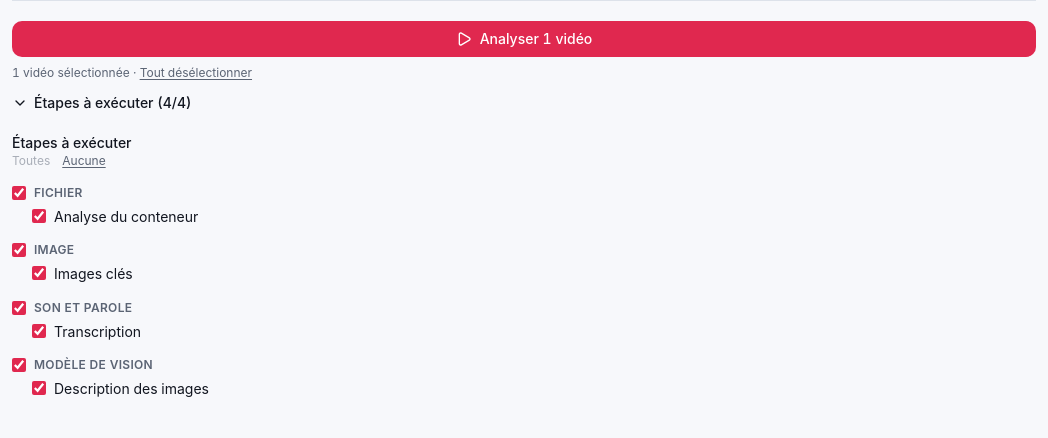
Test: AnalyzePanel › needs at least one stage
Step 1. Click the button "Aucune" → (84, 161), box [62, 153, 106, 169]
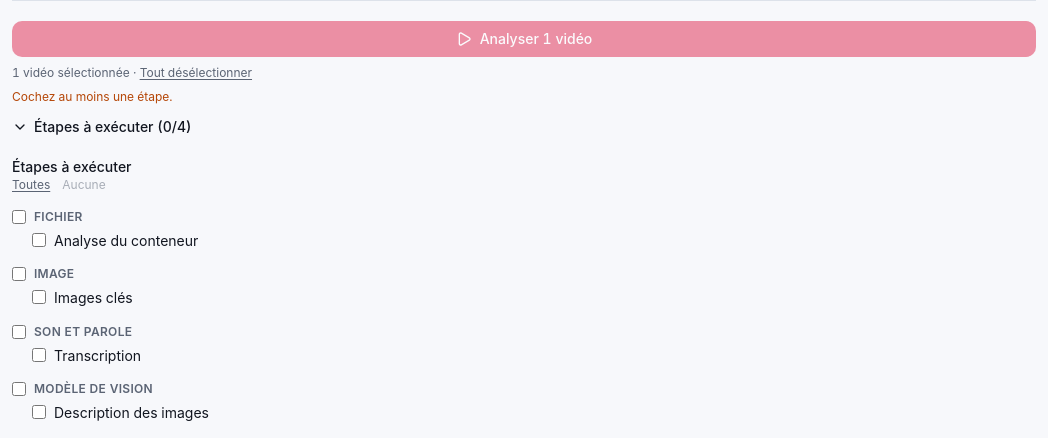
Expected: the button "Analyser 1 vidéo" is disabled, [12, 21, 1036, 57]
Expected: the text "Cochez au moins une étape." is shown, [12, 89, 173, 104]
Step 2. Click the checkbox labelled "Transcription" → (39, 354), box [32, 348, 46, 362]
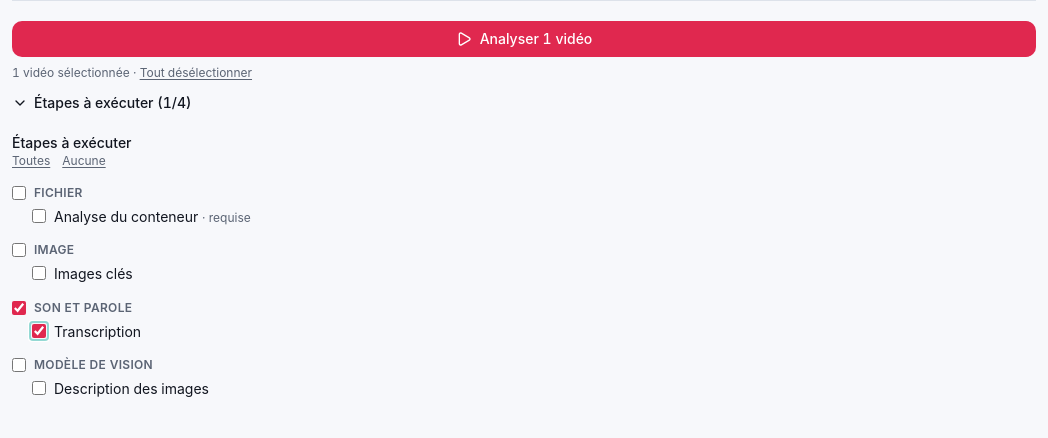
Expected: the checkbox labelled "Fichier" is not checked, [12, 186, 26, 200]
Expected: the checkbox labelled "Son et parole" is checked, [12, 300, 26, 314]
Step 3. Click the button "Toutes" → (31, 161), box [12, 153, 50, 169]
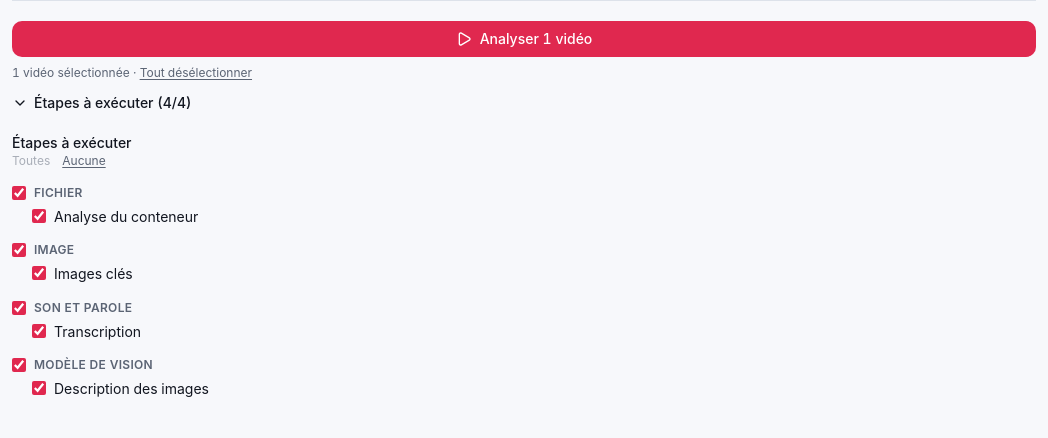
Expected: the checkbox labelled "Fichier" is checked, [12, 186, 26, 200]
Expected: the checkbox labelled "Analyse du conteneur" is checked, [32, 209, 46, 223]
Expected: the checkbox labelled "Image" is checked, [12, 243, 26, 257]
